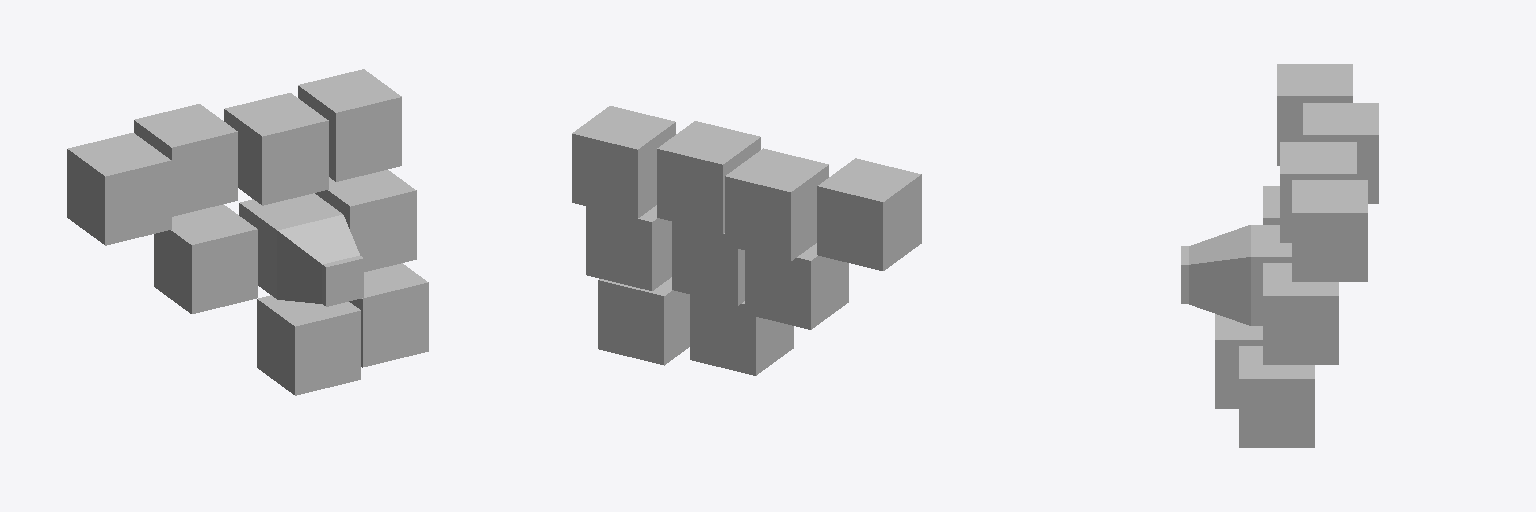
The model's file is buildings.obj.
3 renders of one model, left to right at view 1: azimuth 30°, elevation 25°; view 2: azimuth 150°, elevation 25°; view 3: azimuth 270°, elevation 25°, orthographic.
Size of the model in its own units: 46 by 34 by 26.01.